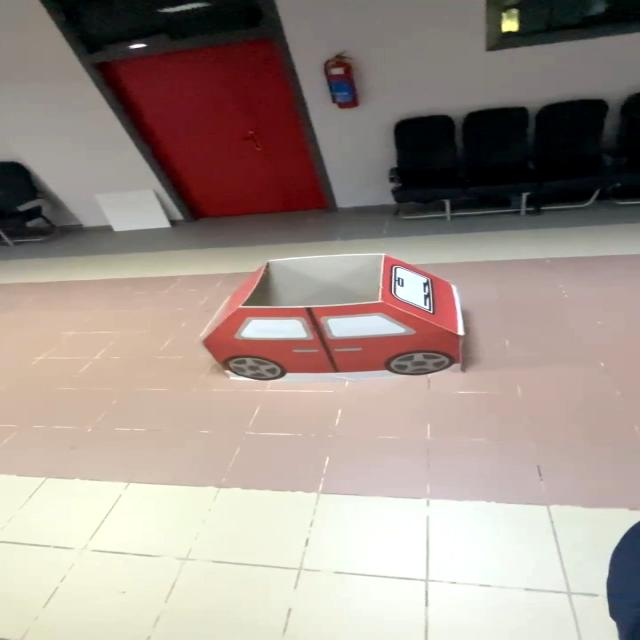red_car: (153, 242, 537, 402)
